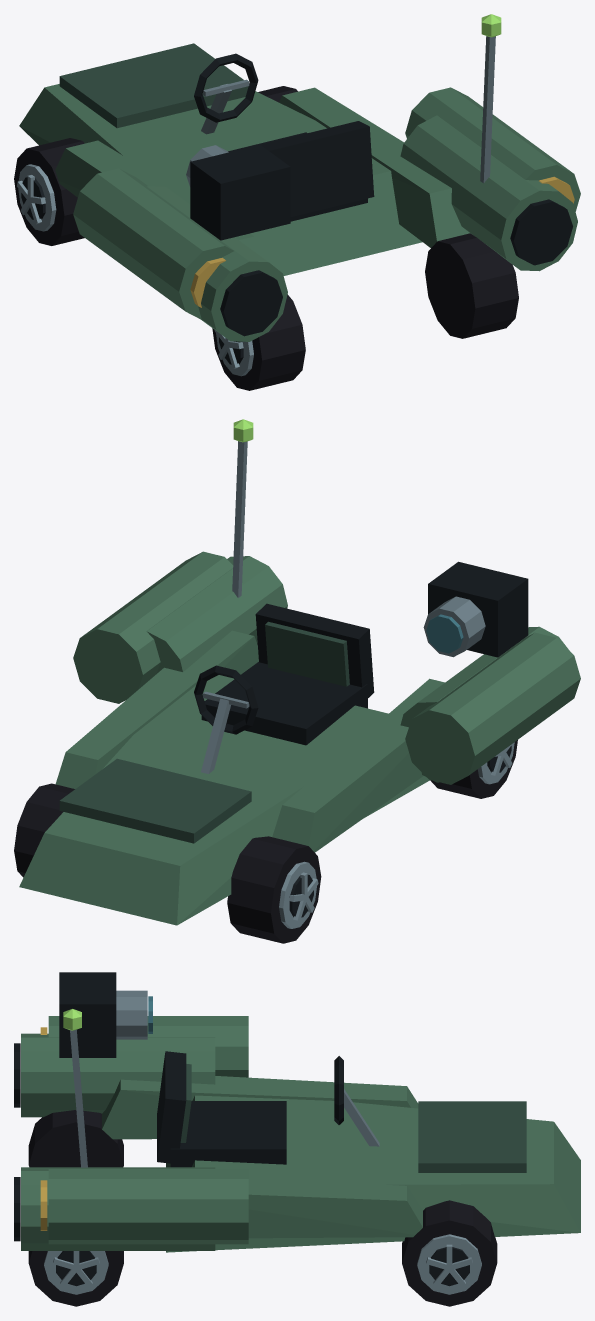
File: kart.glb
3 renders of one model, top to bottom at view 1: azimuth 30°, elevation 25°; view 2: azimuth 150°, elevation 25°; view 3: azimuth 270°, elevation 25°, orthographic. The views are drawn at different scales.
Visible parts, largest first — view 1: identity-speeder-speeder-long-cowl-and-stern-turbines, identity-speeder-motif-engine-pods, identity-speeder-driver-cockpit, identity-speeder-motif-camera, wheel-rear-right, wheel-front-left, wheel-rear-left, identity-speeder-motif-antenna; view 2: identity-speeder-speeder-long-cowl-and-stern-turbines, identity-speeder-motif-engine-pods, identity-speeder-driver-cockpit, identity-speeder-motif-camera, wheel-front-left, wheel-front-right, identity-speeder-motif-antenna, wheel-rear-left; view 3: identity-speeder-speeder-long-cowl-and-stern-turbines, identity-speeder-motif-engine-pods, identity-speeder-driver-cockpit, wheel-front-right, identity-speeder-motif-camera, wheel-rear-right, wheel-rear-left, identity-speeder-motif-antenna.
Part boxes in pixels (x1,y1,x2,y2): identity-speeder-speeder-long-cowl-and-stern-turbines: (19,43,577,341); identity-speeder-motif-engine-pods: (73,87,580,320); identity-speeder-driver-cockpit: (194,53,374,221); identity-speeder-motif-camera: (186,145,290,240); wheel-rear-right: (425,233,518,338); wheel-front-left: (14,138,84,245); wheel-rear-left: (212,294,305,390); identity-speeder-motif-antenna: (480,14,501,183); identity-speeder-speeder-long-cowl-and-stern-turbines: (19,556,569,925); identity-speeder-motif-engine-pods: (73,551,580,784); identity-speeder-driver-cockpit: (194,603,374,773); identity-speeder-motif-camera: (423,561,528,657); wheel-front-left: (227,836,321,943); wheel-front-right: (14,783,74,877); identity-speeder-motif-antenna: (232,419,253,597); wheel-rear-left: (430,740,517,798); identity-speeder-speeder-long-cowl-and-stern-turbines: (14,1033,580,1252); identity-speeder-motif-engine-pods: (40,1016,248,1244); identity-speeder-driver-cockpit: (157,1051,379,1167); wheel-front-right: (402,1200,497,1306); identity-speeder-motif-camera: (59,972,152,1057); wheel-rear-right: (28,1251,123,1306); wheel-rear-left: (28,1110,123,1167); identity-speeder-motif-antenna: (63,1009,87,1167).
Size of the model in its own units: 2.3 by 1.72 by 2.98.
